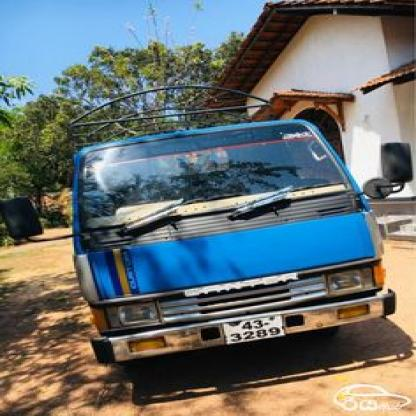Lorry front: (55, 78, 413, 380)
number plate: (226, 316, 284, 346)
